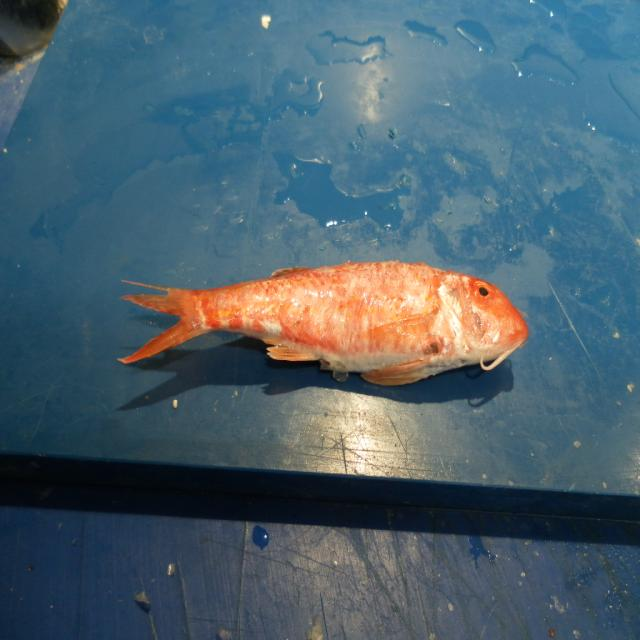Red-Mullet-kefal-: (120, 262, 530, 390)
